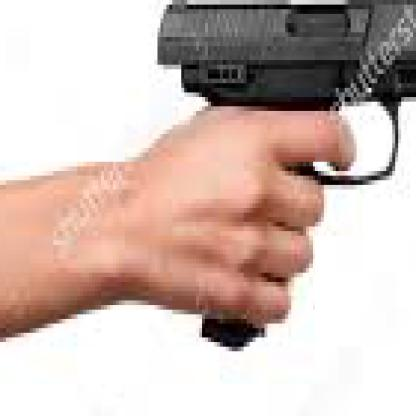gun: (139, 0, 414, 375)
